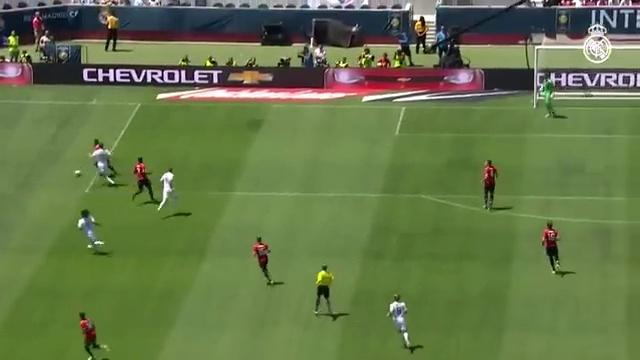football: (74, 170, 81, 175)
player: (79, 312, 109, 359), (387, 294, 409, 347), (77, 209, 103, 251), (132, 157, 155, 201), (252, 236, 273, 284), (91, 144, 115, 184), (542, 221, 560, 273), (482, 160, 498, 210), (540, 74, 556, 117), (158, 168, 174, 210), (93, 139, 105, 150)
referee: (314, 265, 333, 315)
